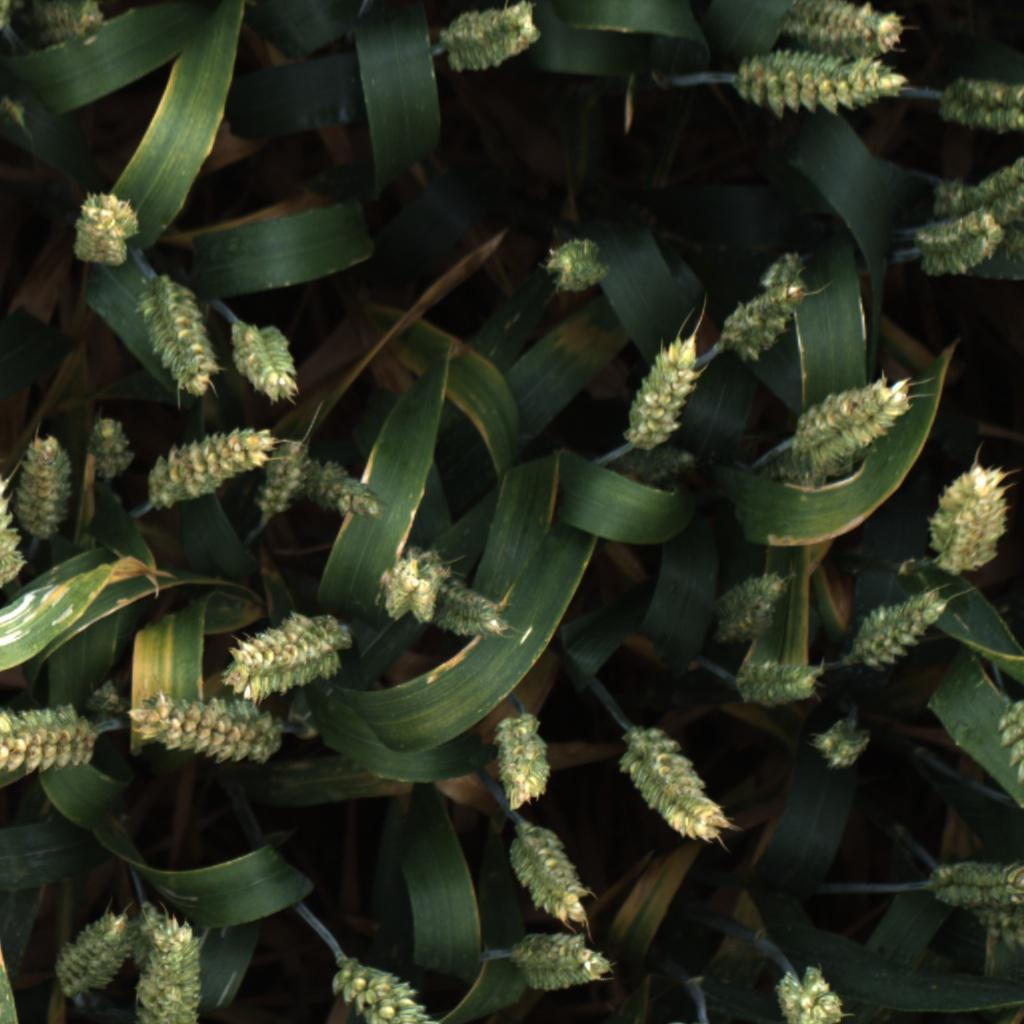0-0: (748, 373, 920, 495), (617, 722, 733, 849), (221, 605, 355, 703), (127, 688, 284, 769), (733, 46, 905, 118), (928, 170, 1024, 296), (134, 272, 224, 402), (153, 422, 271, 514), (921, 461, 1010, 578), (837, 586, 951, 675), (503, 823, 591, 926), (621, 330, 697, 449), (52, 912, 147, 1002), (325, 955, 447, 1024), (900, 206, 1004, 282), (437, 0, 541, 75), (717, 278, 805, 366), (133, 915, 203, 1024), (378, 539, 461, 628), (0, 701, 97, 777), (765, 0, 904, 53), (15, 426, 80, 538), (511, 926, 615, 994), (62, 187, 145, 269), (490, 712, 555, 812), (938, 66, 1024, 137), (230, 319, 300, 404), (925, 852, 1024, 912), (717, 570, 796, 643), (249, 433, 314, 518), (959, 137, 1024, 219), (309, 461, 391, 521), (537, 236, 615, 297), (435, 580, 506, 647), (734, 655, 824, 707), (18, 0, 109, 51), (770, 966, 849, 1024), (809, 711, 878, 775), (119, 900, 174, 976), (0, 447, 26, 604), (615, 441, 706, 484), (83, 407, 136, 480), (967, 899, 1024, 958), (997, 694, 1024, 818), (80, 671, 135, 729), (754, 249, 810, 303), (0, 90, 37, 139), (0, 0, 26, 35)
